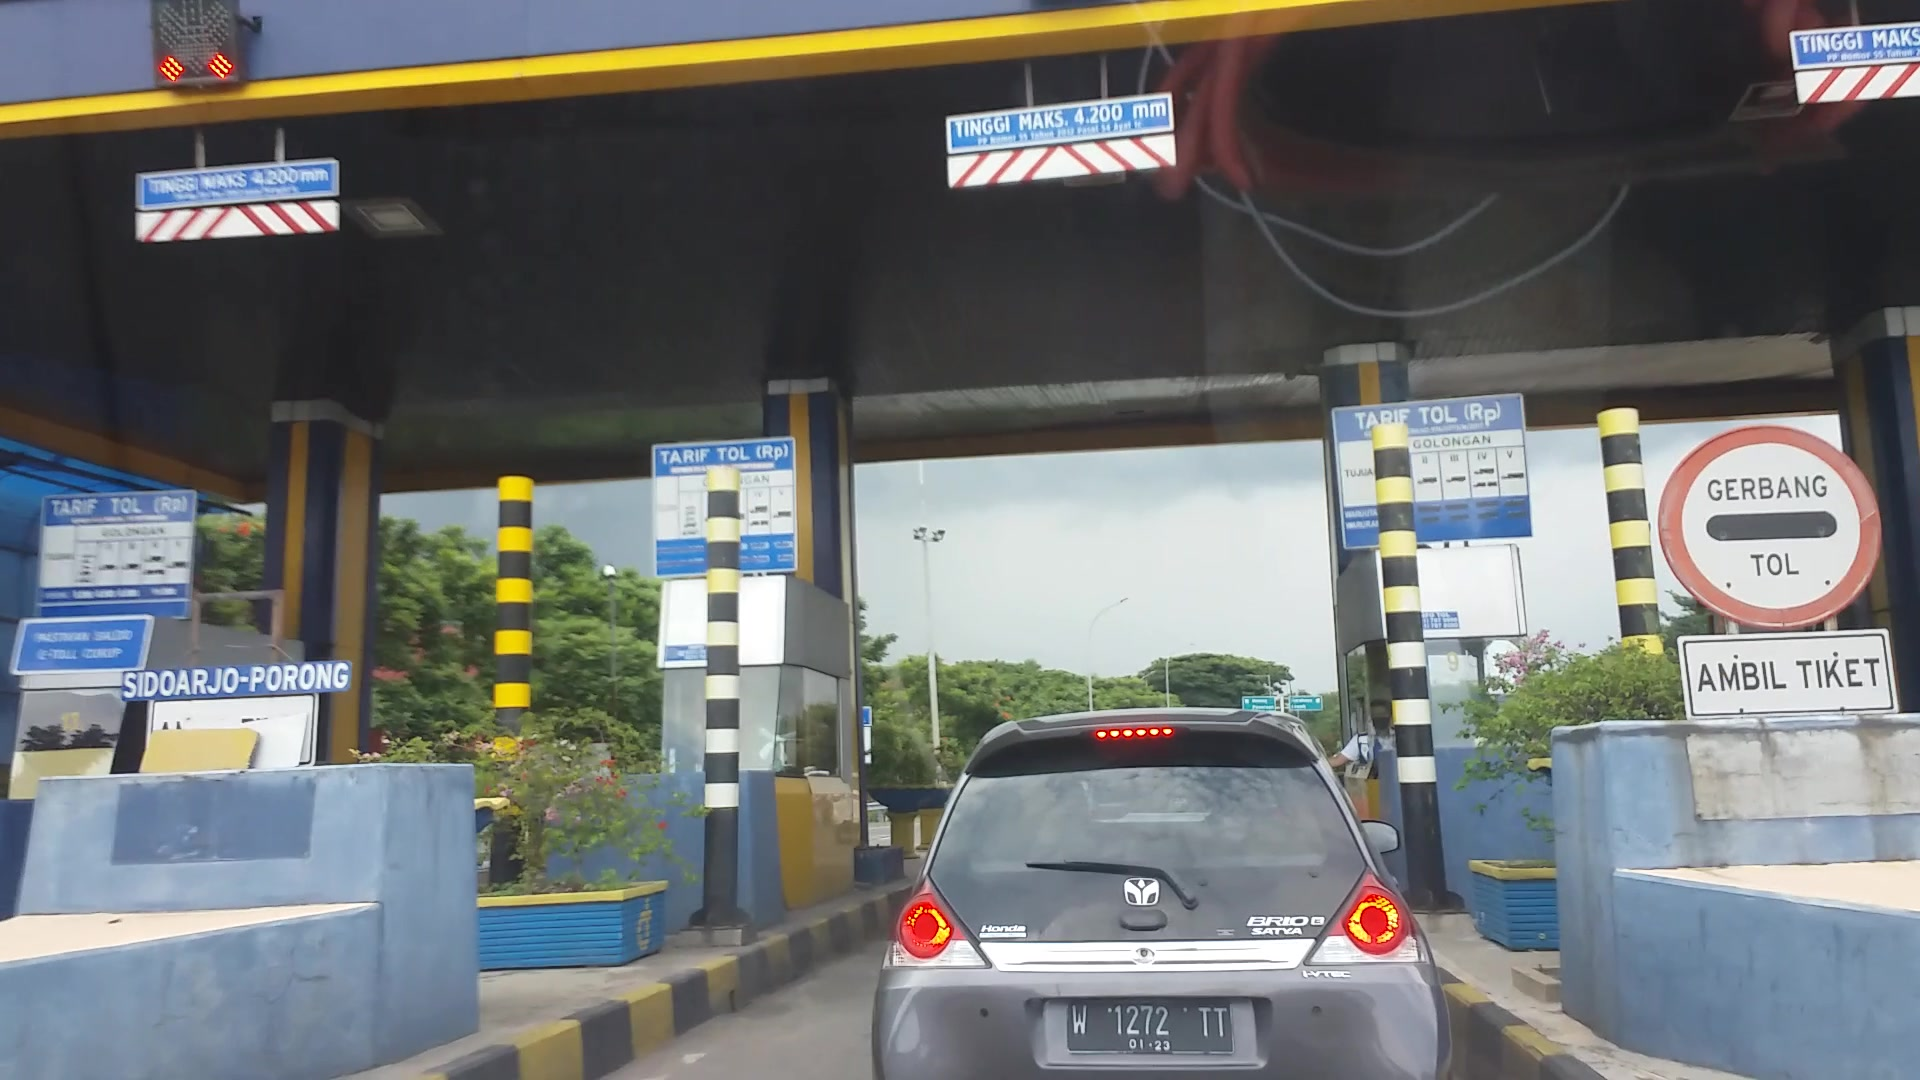plate_positive: (1065, 997, 1234, 1056)
